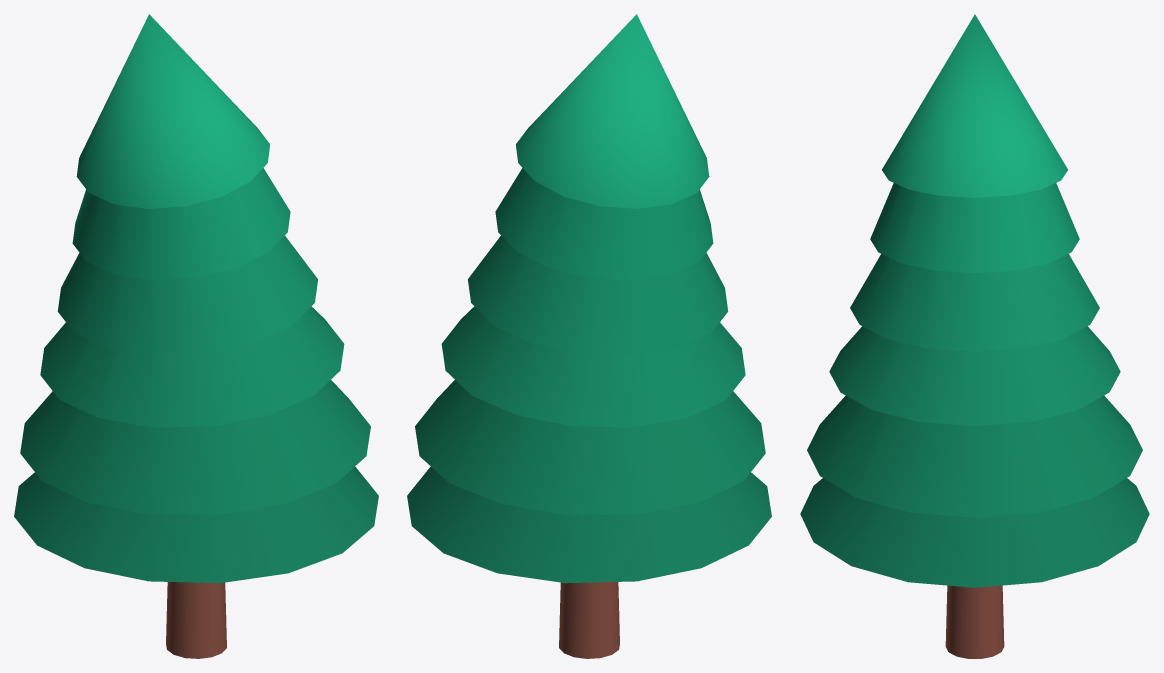
The model's file is Spruce_Cold_Turquoise_3.fbx.
3 views of the same model, side by side, from view 1: azimuth 30°, elevation 25°; view 2: azimuth 150°, elevation 25°; view 3: azimuth 270°, elevation 25° (orthographic). The views are drawn at different scales.
Parts seen in each view (by area): view 1: Cylinder.140, Cylinder.141, Cylinder.139, Cylinder.138, Cylinder.136, Cylinder.137, Cylinder.142; view 2: Cylinder.140, Cylinder.141, Cylinder.139, Cylinder.138, Cylinder.136, Cylinder.137, Cylinder.142; view 3: Cylinder.140, Cylinder.141, Cylinder.138, Cylinder.139, Cylinder.136, Cylinder.137, Cylinder.142.
Part boxes in pixels (x1,y1,x2,y2): Cylinder.140: (20,380,370,515); Cylinder.141: (14,466,378,583); Cylinder.139: (76,14,269,208); Cylinder.138: (40,306,344,427); Cylinder.136: (57,235,317,355); Cylinder.137: (72,168,290,279); Cylinder.142: (166,582,226,658); Cylinder.140: (415,380,765,515); Cylinder.141: (407,466,771,583); Cylinder.139: (516,14,709,208); Cylinder.138: (441,306,745,427); Cylinder.136: (468,235,728,355); Cylinder.137: (495,168,713,279); Cylinder.142: (559,582,619,658); Cylinder.140: (807,395,1142,517); Cylinder.141: (800,478,1149,587); Cylinder.138: (829,326,1120,425); Cylinder.139: (882,14,1067,197); Cylinder.136: (850,254,1099,351); Cylinder.137: (870,183,1079,273); Cylinder.142: (945,585,1004,658).
Bounding box in the file's own units: 276 × 532 × 276.
